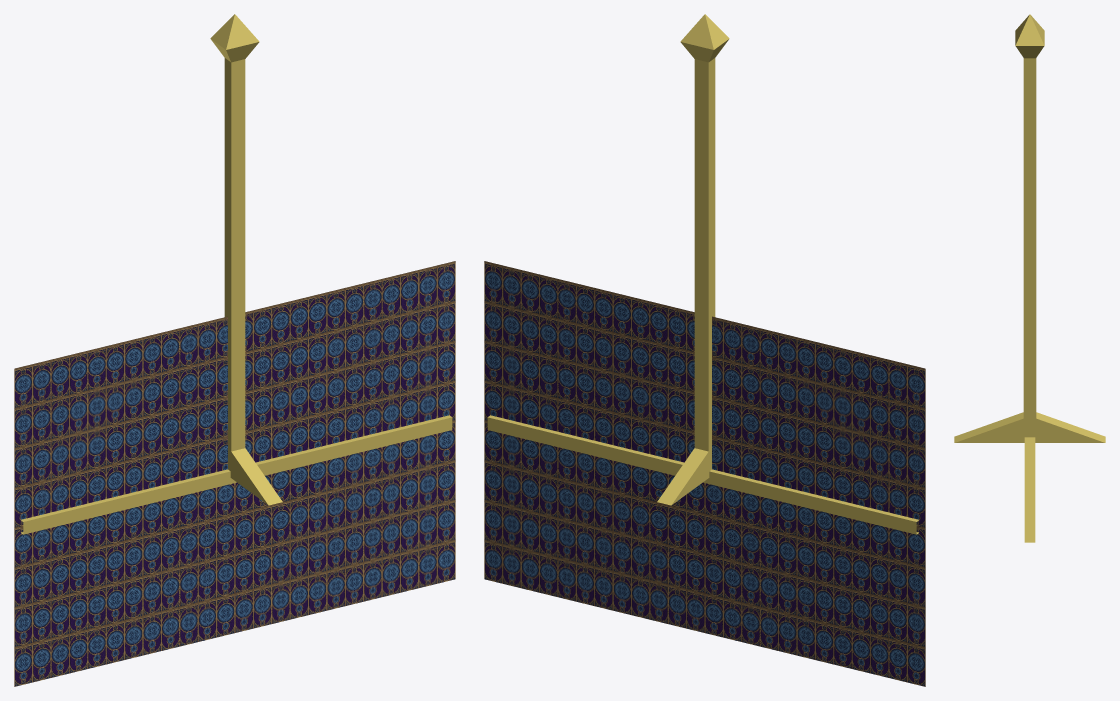
Rendered from 4462wall_r.gltf.
The picture shows the model from 3 angles, left to right: view 1: azimuth 30°, elevation 25°; view 2: azimuth 150°, elevation 25°; view 3: azimuth 270°, elevation 25°; orthographic projection. The views are drawn at different scales.
Visible parts, largest first — view 1: 4462wall_r; view 2: 4462wall_r; view 3: 4462wall_r.
Boxes of the visible parts, x1,y1,x2,y2 form: 4462wall_r: (14,14,455,686); 4462wall_r: (484,14,925,686); 4462wall_r: (954,14,1105,542).
Bounding box in the file's own units: 1.83 × 2.45 × 0.5869.
2 materials, 1 textured.
